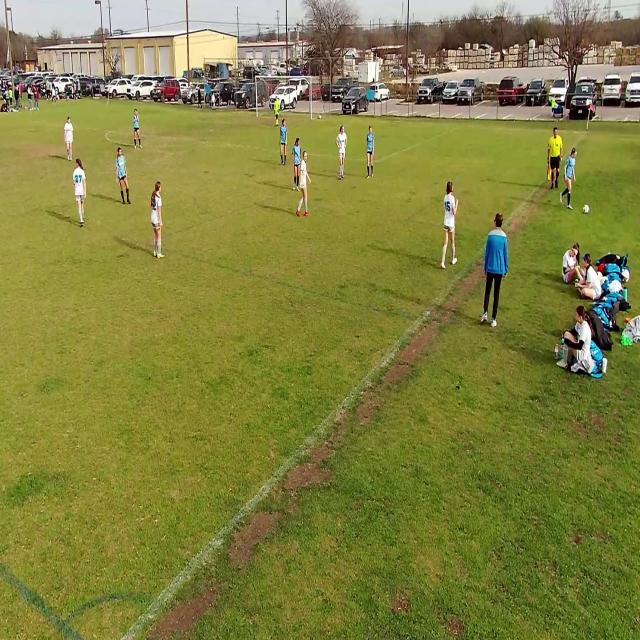ball: (582, 202, 590, 216)
team1: (560, 146, 577, 209), (114, 149, 130, 206), (278, 119, 290, 167), (291, 136, 301, 188), (367, 128, 376, 176), (133, 106, 143, 149)
team2: (442, 180, 459, 268), (149, 181, 163, 259), (298, 150, 313, 217), (72, 158, 86, 225), (338, 126, 349, 180), (65, 116, 74, 162)
